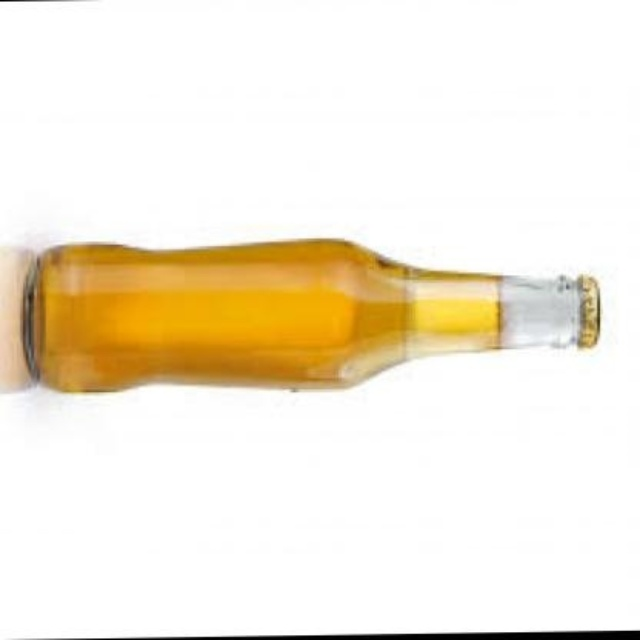trash: (0, 240, 598, 391)
